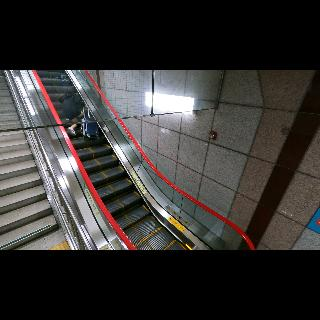anomaly: (58, 86, 90, 138)
